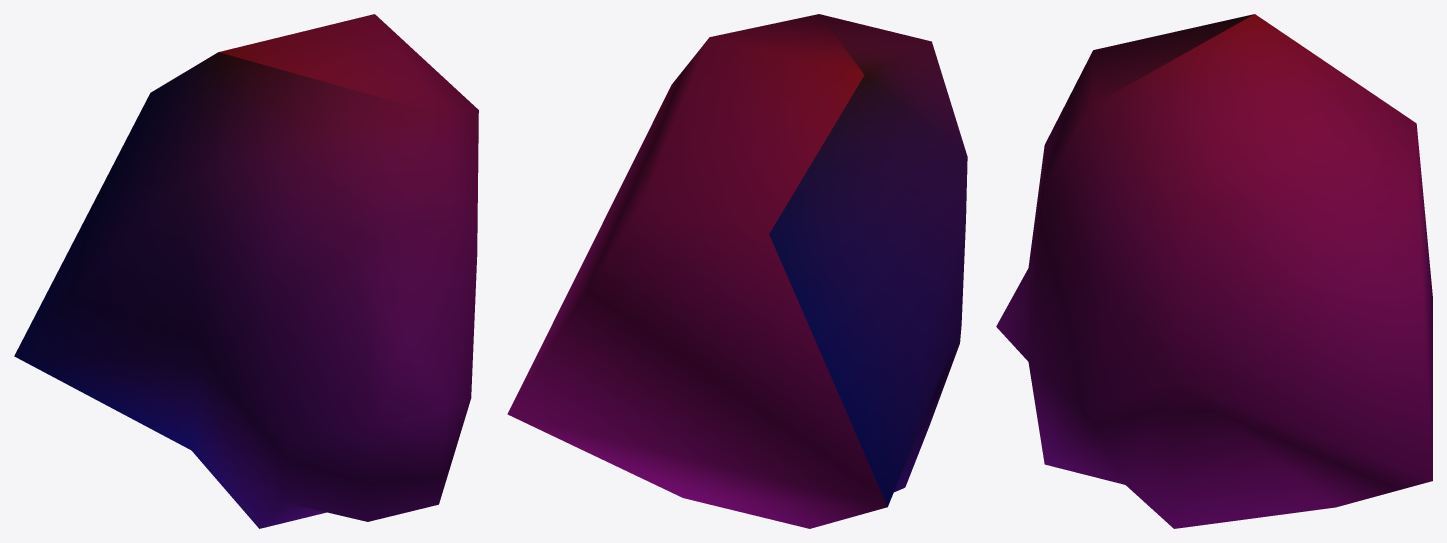
File: model_2CBD.glb
The picture shows the model from 3 angles, left to right: view 1: azimuth 30°, elevation 25°; view 2: azimuth 150°, elevation 25°; view 3: azimuth 270°, elevation 25°; orthographic projection.
Visible parts, largest first — view 1: part; view 2: part; view 3: part.
Boxes of the visible parts, x1=… form: part: x1=14, y1=14, x2=478, y2=528; part: x1=507, y1=14, x2=967, y2=528; part: x1=996, y1=14, x2=1432, y2=528.
Bounding box in the file's own units: 3483 × 3870 × 3483.
